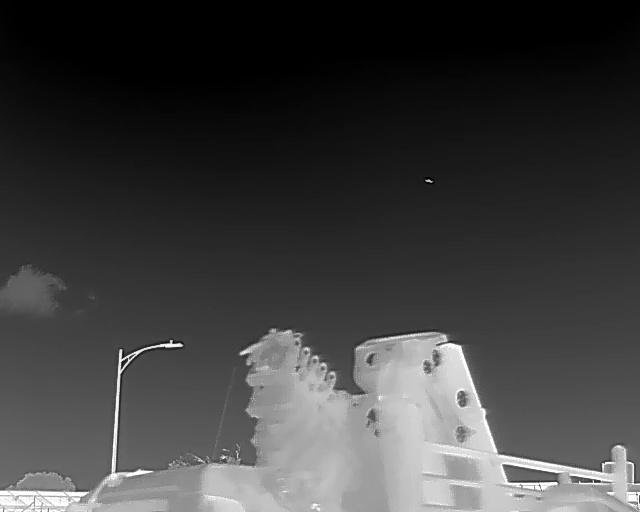fpv-drone: (424, 178, 433, 183)
